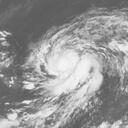cyclone: (25, 36, 102, 98)
